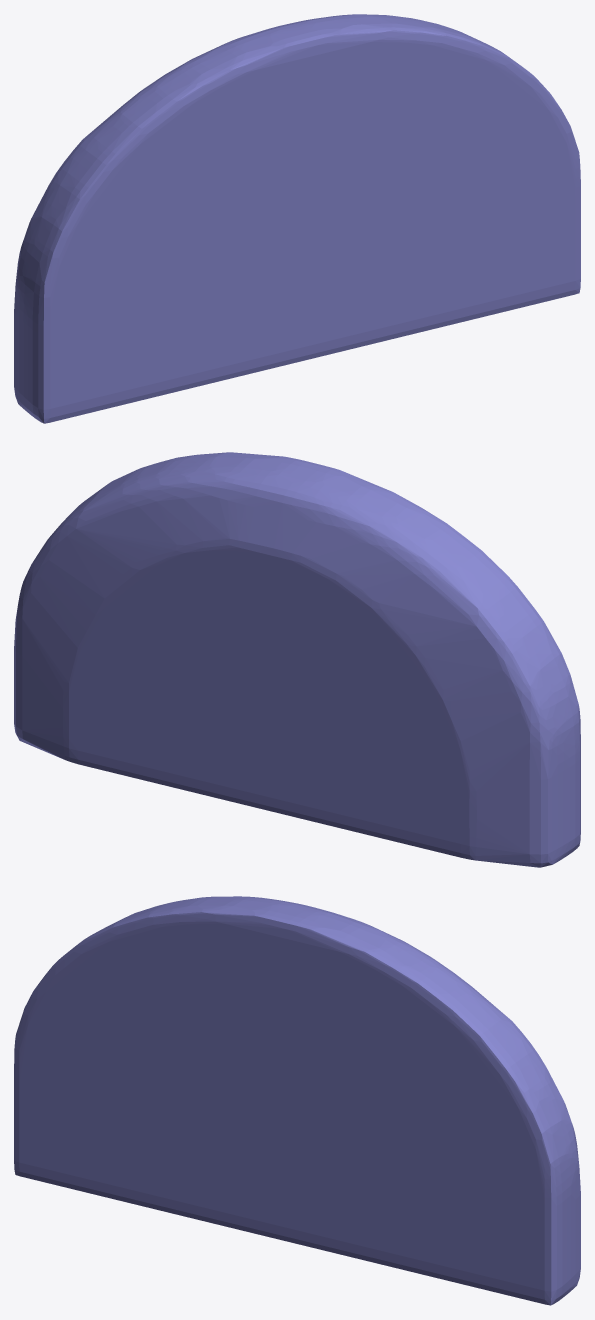
File: pelvis_part_12.obj
3 renders of one model, top to bottom at view 1: azimuth 30°, elevation 25°; view 2: azimuth 150°, elevation 25°; view 3: azimuth 330°, elevation 25°, orthographic.
Size of the model in its own units: 0.1401 by 0.0791 by 0.0196.
